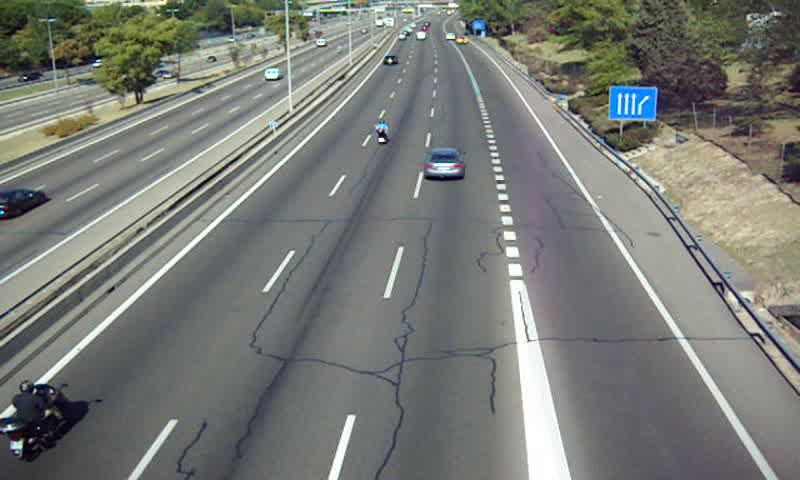car: (427, 148, 466, 180), (382, 54, 398, 67)
motorcycle: (1, 379, 68, 462), (375, 121, 390, 148)
